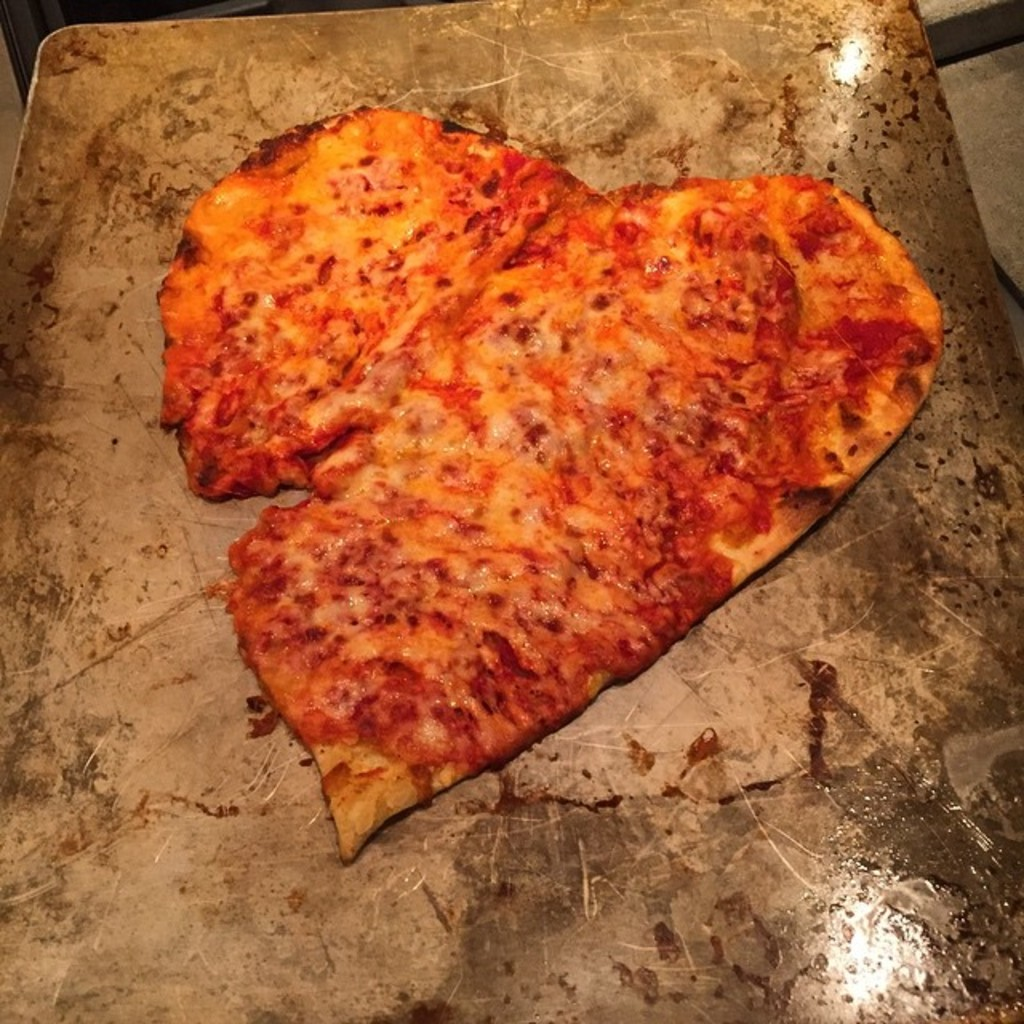Pizza: (147, 100, 1024, 828)
